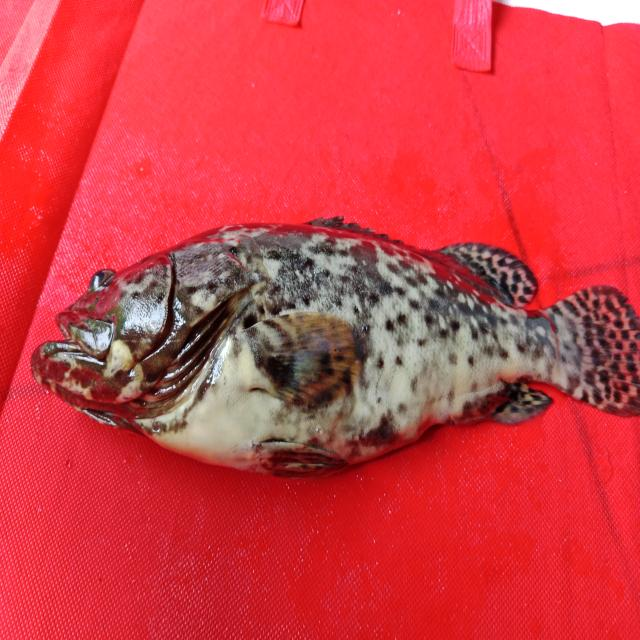ikan: (29, 214, 638, 480)
